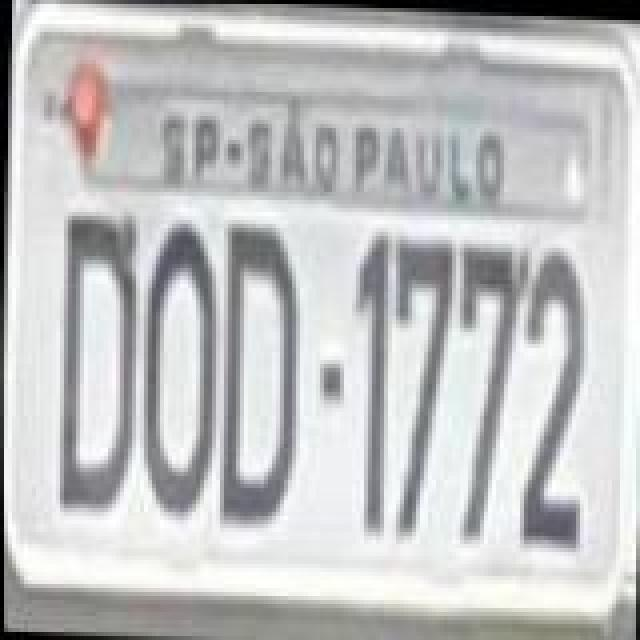1: (344, 226, 392, 538)
2: (514, 238, 590, 558)
7: (448, 228, 528, 548), (382, 228, 458, 548)
D: (210, 214, 302, 538), (52, 208, 140, 516)
O: (130, 208, 222, 520)
